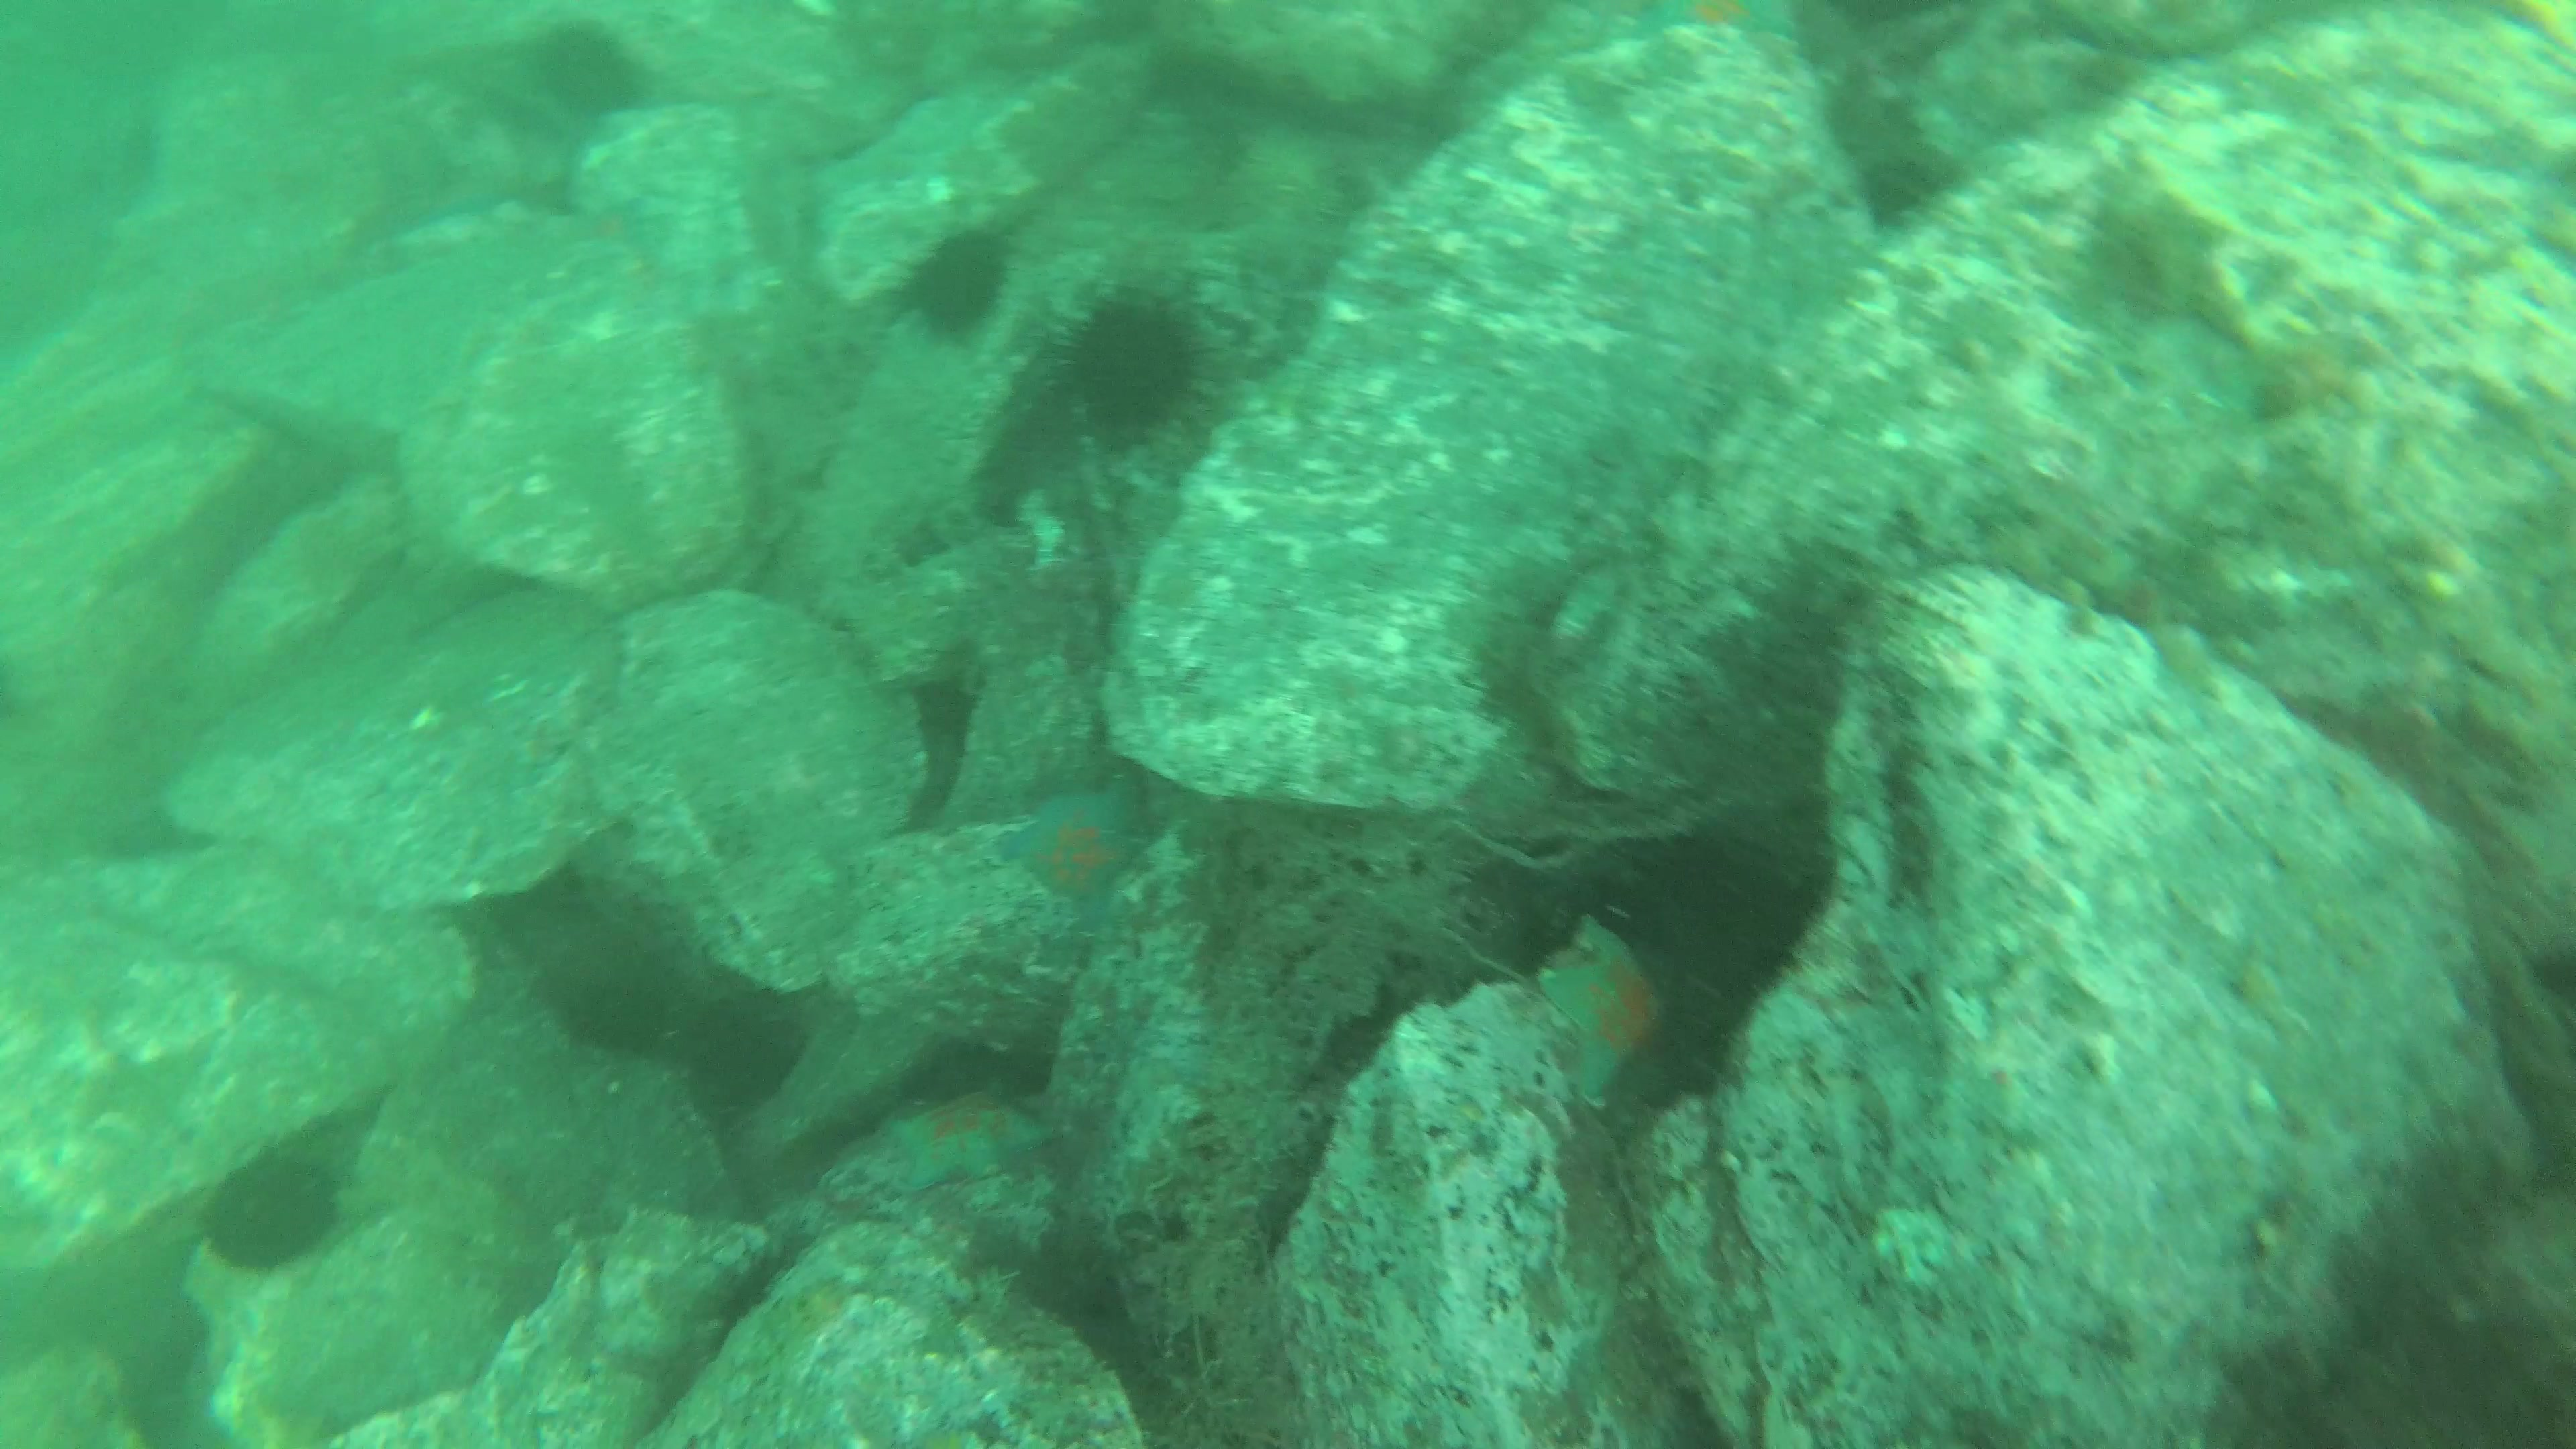echinus: (1042, 264, 1217, 458), (198, 1155, 352, 1274), (893, 214, 1017, 350), (518, 28, 642, 126)
starfish: (1523, 920, 1697, 1127), (863, 1070, 1065, 1200), (1012, 773, 1169, 929), (1603, 0, 1813, 58)
